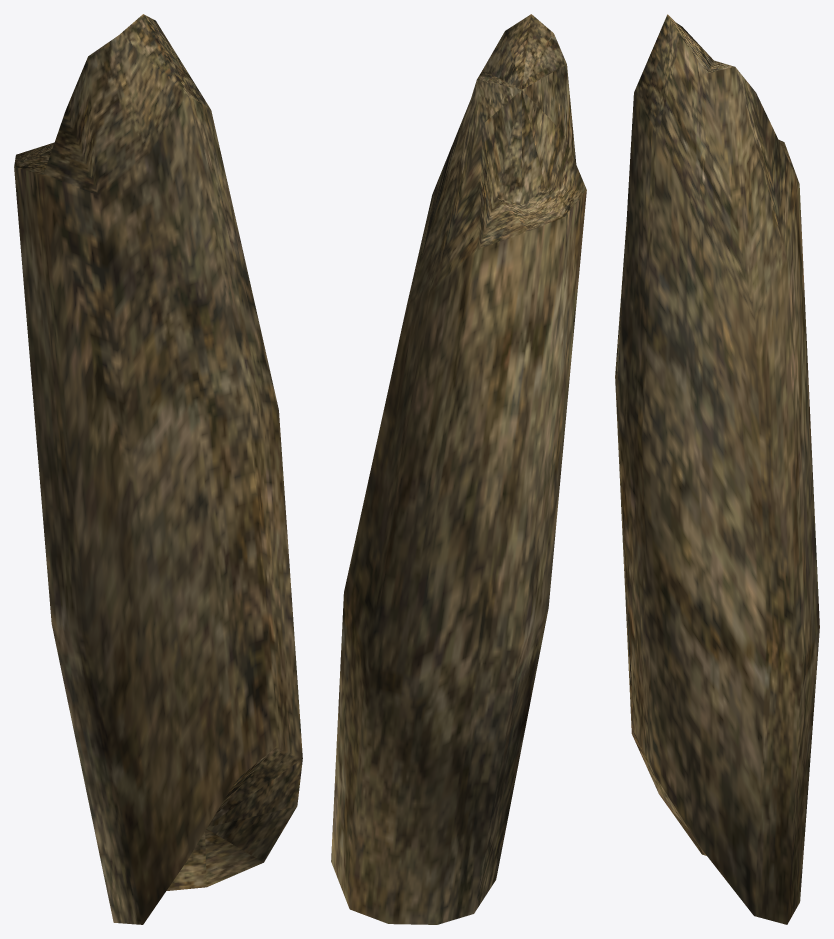
File: CH09_SMAUG_PLAYSURFACE_LONELYMOUNTAIN_LM_PLAYSURFACE12.fbx
3 views of the same model, side by side, from view 1: azimuth 30°, elevation 25°; view 2: azimuth 150°, elevation 25°; view 3: azimuth 270°, elevation 25° (orthographic). The views are drawn at different scales.
Parts seen in each view (by area): view 1: CH09_SMAUG_PLAYSURFACE_LONELYMOUNTAIN_LM_PLAYSURFACE12; view 2: CH09_SMAUG_PLAYSURFACE_LONELYMOUNTAIN_LM_PLAYSURFACE12; view 3: CH09_SMAUG_PLAYSURFACE_LONELYMOUNTAIN_LM_PLAYSURFACE12.
Boxes of the visible parts, <box> form: CH09_SMAUG_PLAYSURFACE_LONELYMOUNTAIN_LM_PLAYSURFACE12: <box>14,14,302,924</box>; CH09_SMAUG_PLAYSURFACE_LONELYMOUNTAIN_LM_PLAYSURFACE12: <box>331,14,586,924</box>; CH09_SMAUG_PLAYSURFACE_LONELYMOUNTAIN_LM_PLAYSURFACE12: <box>615,14,819,924</box>.
Bounding box in the file's own units: 21869 × 77890 × 16931.
Materials: 1 (1 with a texture image).
